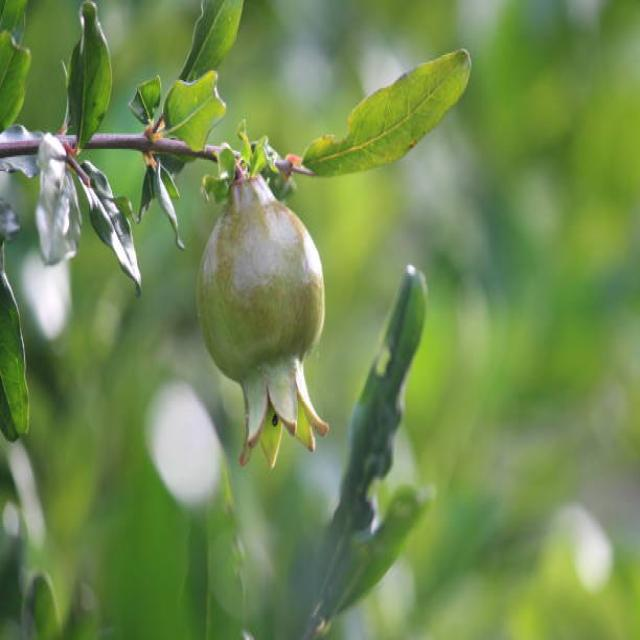Unripe: (197, 169, 330, 466)
